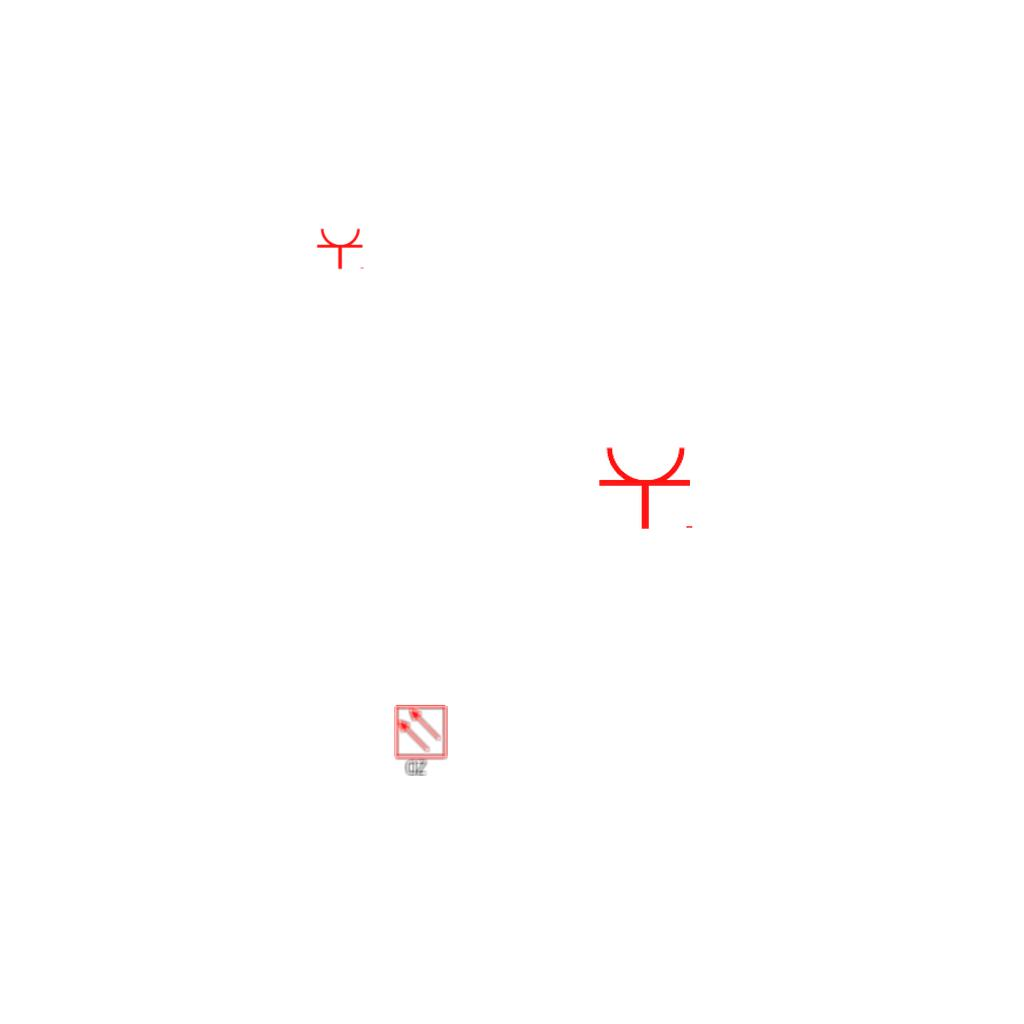Schukosteckdose_einfach: (597, 444, 697, 531), (316, 227, 366, 270)
ZD_Melder_in_Zwischendecke_mit_Revisionsoeffnung_mind_40_x_40_cm: (393, 704, 450, 778)
